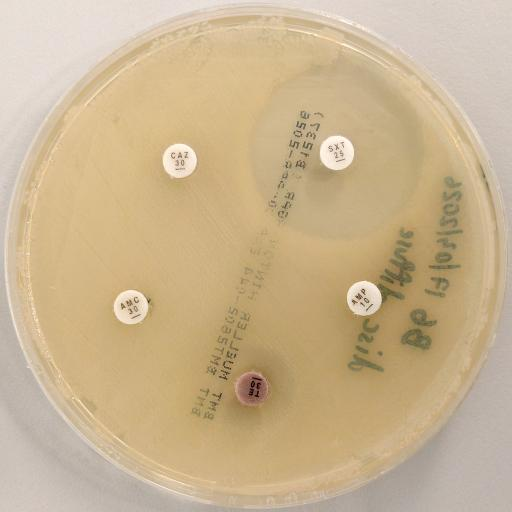disc: (162, 142, 198, 178), (319, 135, 355, 171), (346, 280, 382, 316), (235, 370, 269, 406), (114, 290, 148, 324)
